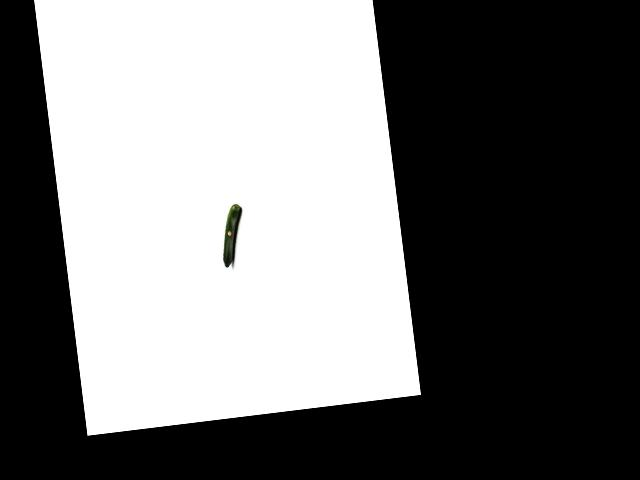cucumber: (217, 202, 247, 267)
